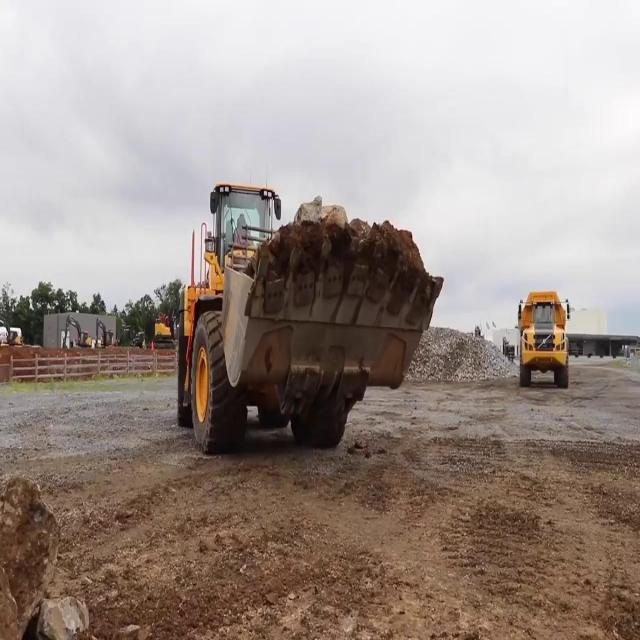Dump Truck: (517, 289, 569, 386)
Loader: (176, 180, 444, 456)
